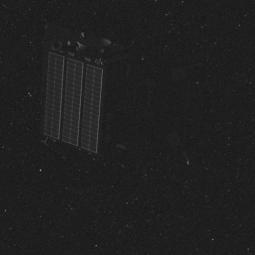proba_2: (33, 34, 110, 161)
